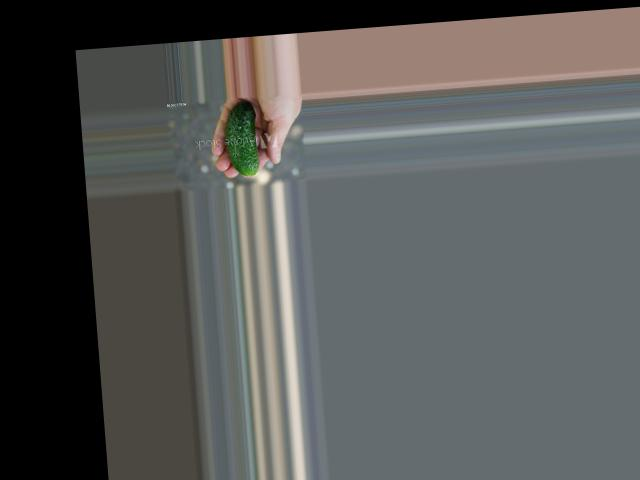cucumber: (221, 100, 259, 176)
